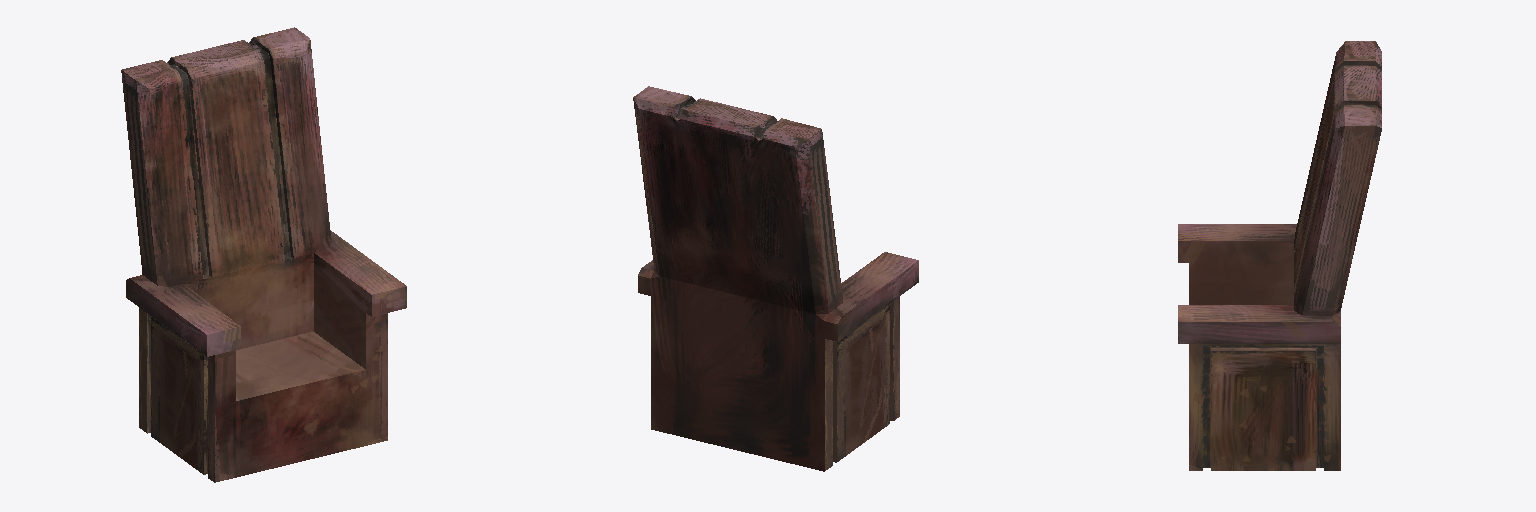
3 views of the same model, side by side, from view 1: azimuth 30°, elevation 25°; view 2: azimuth 150°, elevation 25°; view 3: azimuth 270°, elevation 25° (orthographic).
Parts seen in each view (by area): view 1: silla_Material.004; view 2: silla_Material.004; view 3: silla_Material.004.
Part boxes in pixels (x1,y1,x2,y2): silla_Material.004: (121, 27, 406, 482); silla_Material.004: (633, 86, 918, 471); silla_Material.004: (1178, 41, 1381, 470).
Bounding box in the file's own units: 2.05 × 3.37 × 1.81.
1 materials, 1 textured.